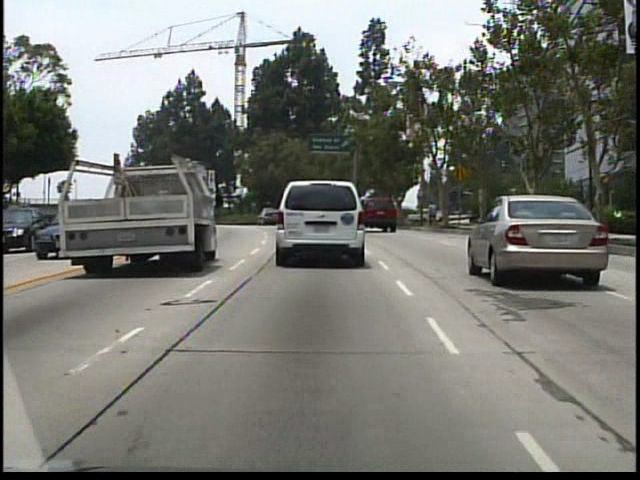person: (427, 195, 440, 228)
